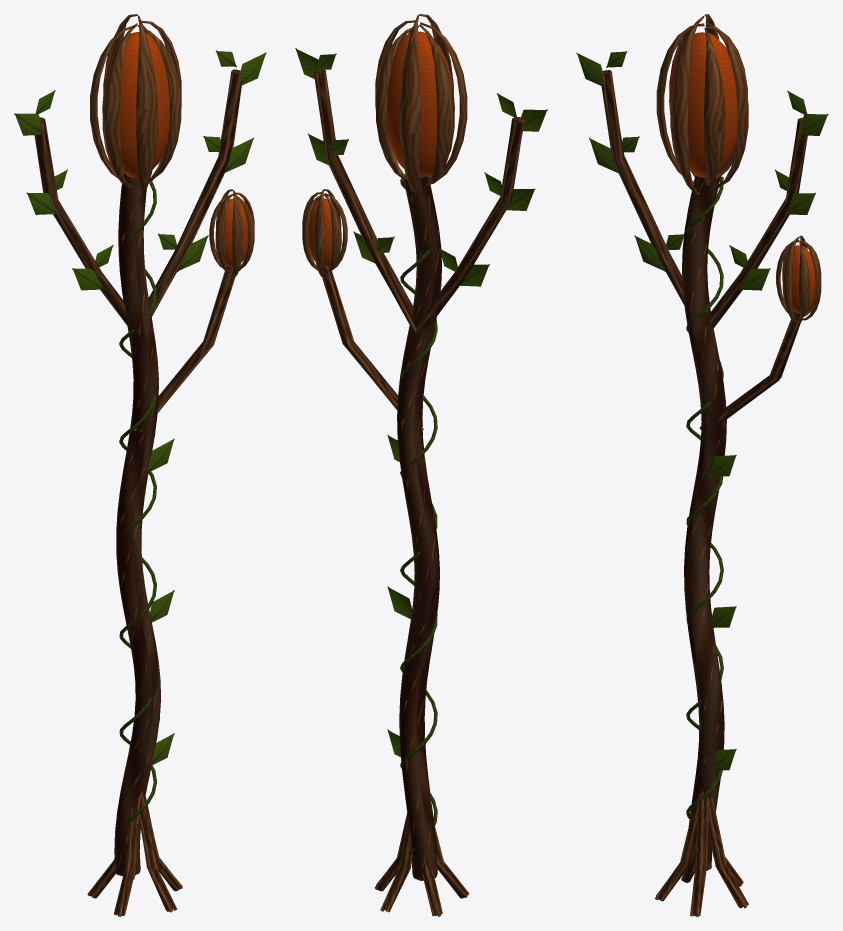
3 views of the same model, side by side, from view 1: azimuth 30°, elevation 25°; view 2: azimuth 150°, elevation 25°; view 3: azimuth 330°, elevation 25° (orthographic).
Parts seen in each view (by area): view 1: Twisted_living_shaft, Amber_sap_heart, Pointed_split_seed_husk.005, Crown_branch.001, Pointed_split_seed_husk.004, Climbing_green_vine, Crown_branch, Pointed_split_seed_husk.006, Secondary_seed_branch, Pointed_split_seed_husk.003, Amber_sap_heart.001, Crown_branch_twisted_bark_ridge.006 (+6 smaller); view 2: Twisted_living_shaft, Amber_sap_heart, Pointed_split_seed_husk.002, Crown_branch.001, Crown_branch, Pointed_split_seed_husk.003, Climbing_green_vine, Pointed_split_seed_husk.001, Pointed_split_seed_husk.004, Secondary_seed_branch, Crown_branch_twisted_bark_ridge.005, Amber_sap_heart.001 (+6 smaller); view 3: Twisted_living_shaft, Amber_sap_heart, Pointed_split_seed_husk.006, Pointed_split_seed_husk.005, Crown_branch, Climbing_green_vine, Crown_branch.001, Pointed_split_seed_husk, Pointed_split_seed_husk.004, Secondary_seed_branch, Amber_sap_heart.001, Root_foot.004 (+6 smaller).
Part boxes in pixels (box(x1,y1,x2,y2)): Twisted_living_shaft: box(114, 173, 160, 875); Amber_sap_heart: box(102, 32, 169, 177); Pointed_split_seed_husk.005: box(136, 15, 157, 195); Crown_branch.001: box(148, 69, 241, 316); Pointed_split_seed_husk.004: box(102, 23, 137, 187); Climbing_green_vine: box(119, 181, 156, 827); Crown_branch: box(36, 117, 127, 325); Pointed_split_seed_husk.006: box(139, 28, 181, 180); Secondary_seed_branch: box(137, 266, 233, 429); Pointed_split_seed_husk.003: box(90, 25, 136, 178); Amber_sap_heart.001: box(224, 198, 248, 267); Crown_branch_twisted_bark_ridge.006: box(149, 73, 241, 301); Twisted_living_shaft: box(397, 176, 441, 880); Amber_sap_heart: box(387, 31, 454, 176); Pointed_split_seed_husk.002: box(399, 14, 420, 192); Crown_branch.001: box(313, 69, 415, 330); Crown_branch: box(419, 117, 524, 330); Pointed_split_seed_husk.003: box(419, 24, 454, 185); Climbing_green_vine: box(400, 178, 437, 854); Pointed_split_seed_husk.001: box(376, 27, 412, 179); Pointed_split_seed_husk.004: box(420, 22, 467, 184); Secondary_seed_branch: box(323, 266, 422, 426); Crown_branch_twisted_bark_ridge.005: box(323, 72, 415, 332); Amber_sap_heart.001: box(308, 198, 332, 266); Twisted_living_shaft: box(682, 175, 726, 870); Amber_sap_heart: box(669, 32, 737, 177); Pointed_split_seed_husk.006: box(704, 28, 725, 184); Pointed_split_seed_husk.005: box(670, 16, 704, 194); Crown_branch: box(601, 70, 684, 305); Climbing_green_vine: box(686, 176, 723, 818); Crown_branch.001: box(710, 117, 806, 327); Pointed_split_seed_husk: box(705, 21, 748, 188); Pointed_split_seed_husk.004: box(656, 23, 703, 184); Secondary_seed_branch: box(701, 312, 801, 428); Amber_sap_heart.001: box(783, 245, 815, 313); Root_foot.004: box(692, 797, 707, 915).
Size of the model in its own units: 0.6102 by 2.04 by 0.2017.
5 materials, 5 textured.
